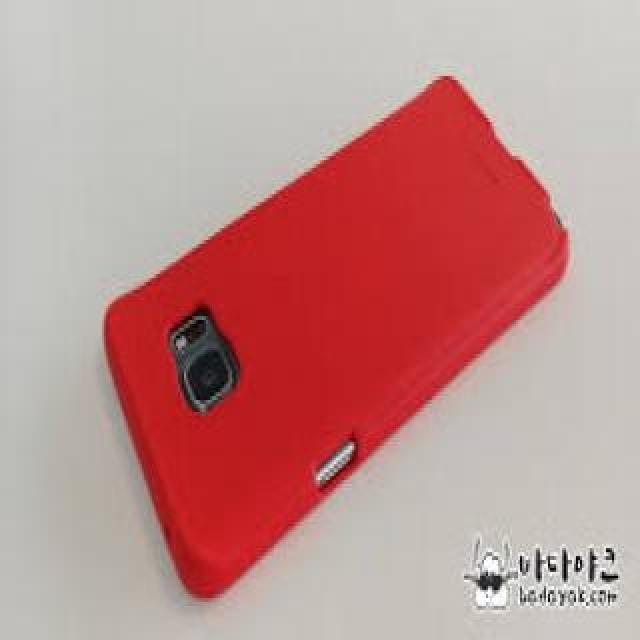smart phone: (91, 31, 562, 596)
